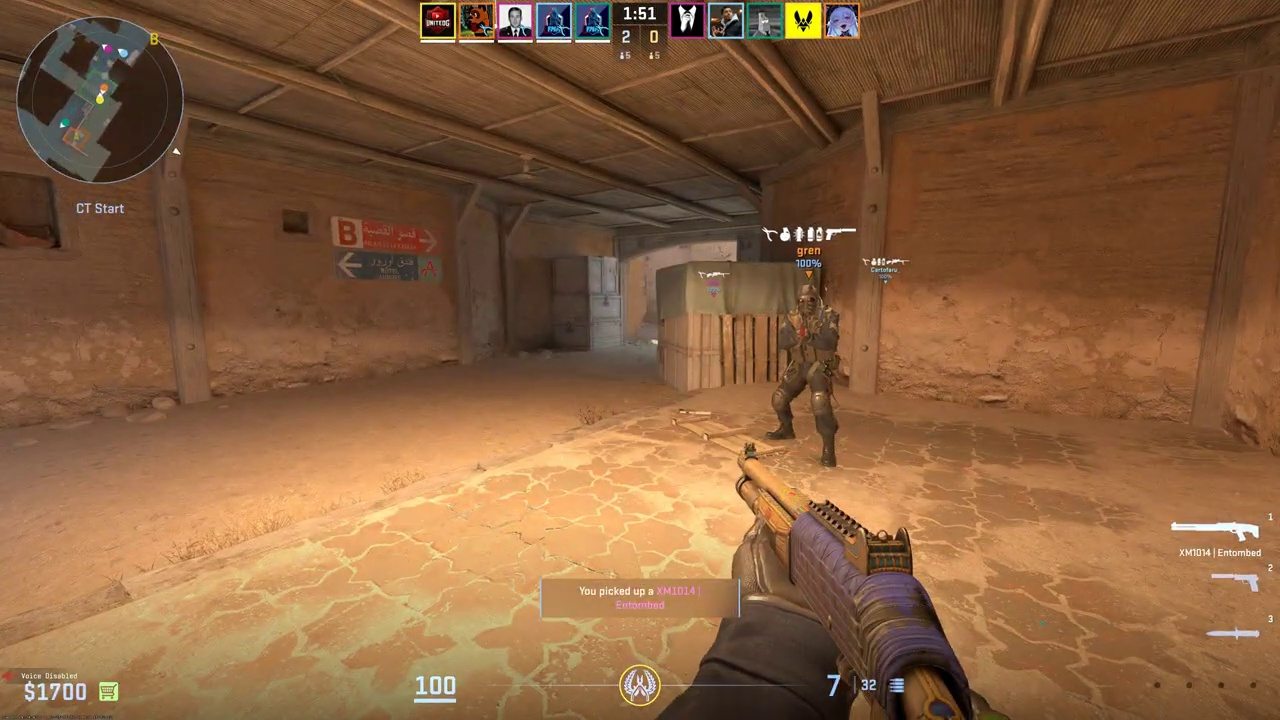CT: (771, 284, 841, 463)
